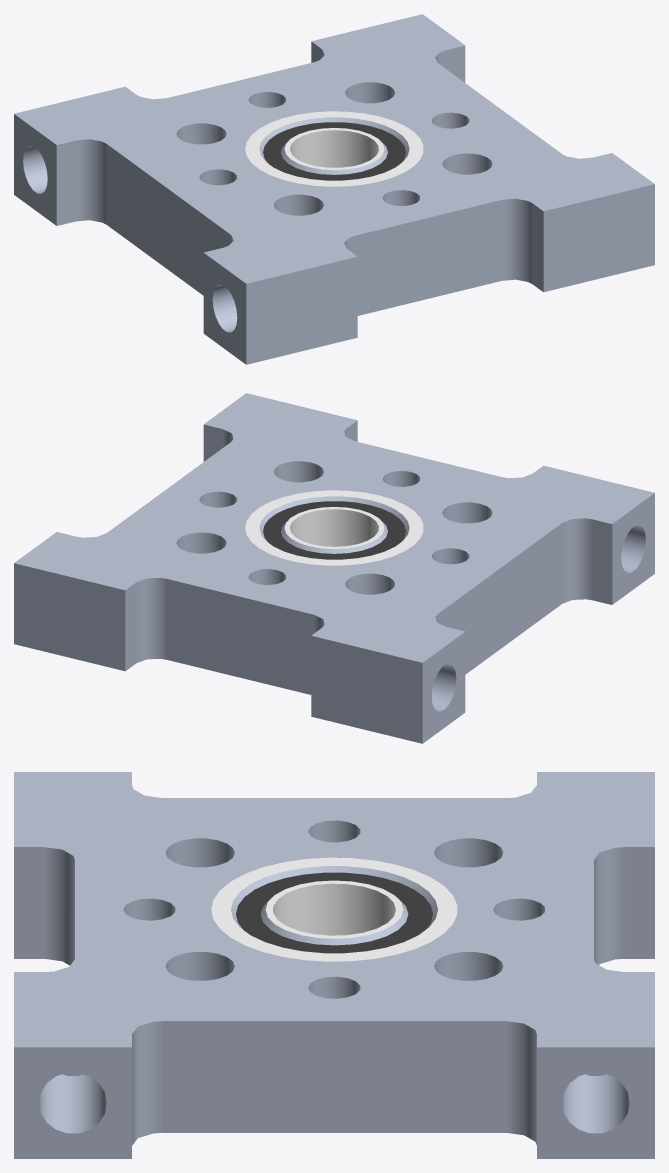
File: ROB-12510.obj
3 renders of one model, top to bottom at view 1: azimuth 30°, elevation 25°; view 2: azimuth 150°, elevation 25°; view 3: azimuth 270°, elevation 25°, orthographic. The views are drawn at different scales.
Visible parts, largest first — view 1: mesh 1 RO, mesh 2 Boss-Extrude2, mesh 3 Boss-Extrude4; view 2: mesh 1 RO, mesh 2 Boss-Extrude2, mesh 3 Boss-Extrude4; view 3: mesh 1 RO, mesh 2 Boss-Extrude2, mesh 3 Boss-Extrude4.
Part boxes in pixels (x1=…): mesh 1 RO: x1=14, y1=14, x2=654, y2=364; mesh 2 Boss-Extrude2: x1=245, y1=111, x2=423, y2=186; mesh 3 Boss-Extrude4: x1=263, y1=122, x2=405, y2=180; mesh 1 RO: x1=14, y1=393, x2=654, y2=743; mesh 2 Boss-Extrude2: x1=245, y1=490, x2=423, y2=565; mesh 3 Boss-Extrude4: x1=263, y1=501, x2=405, y2=559; mesh 1 RO: x1=14, y1=772, x2=654, y2=1158; mesh 2 Boss-Extrude2: x1=211, y1=857, x2=457, y2=961; mesh 3 Boss-Extrude4: x1=236, y1=872, x2=432, y2=953.
Size of the model in its own units: 0.0335 by 0.00635 by 0.033.
